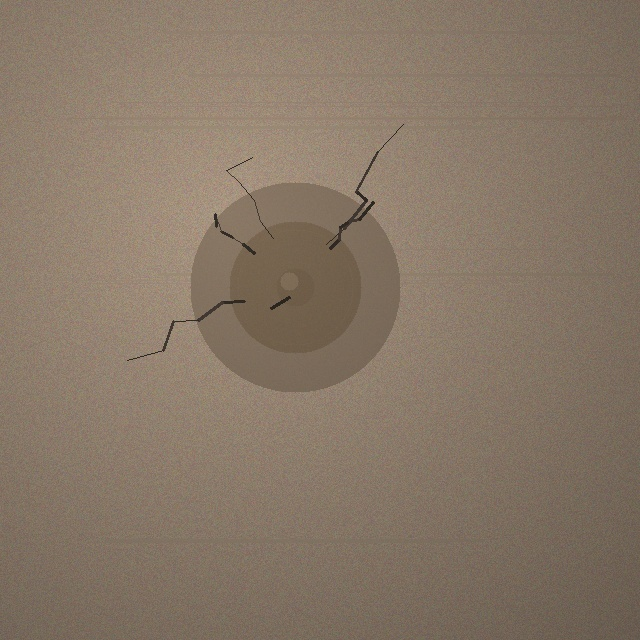crack: (190, 182, 400, 392)
